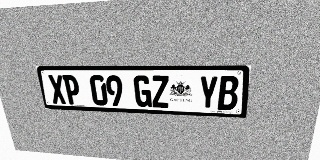0: (89, 75, 108, 106)
9: (105, 75, 124, 106)
B: (218, 76, 239, 110)
G: (133, 75, 152, 107)
P: (62, 75, 82, 105)
X: (47, 75, 67, 104)
Y: (198, 76, 218, 110)
Z: (151, 75, 169, 108)
